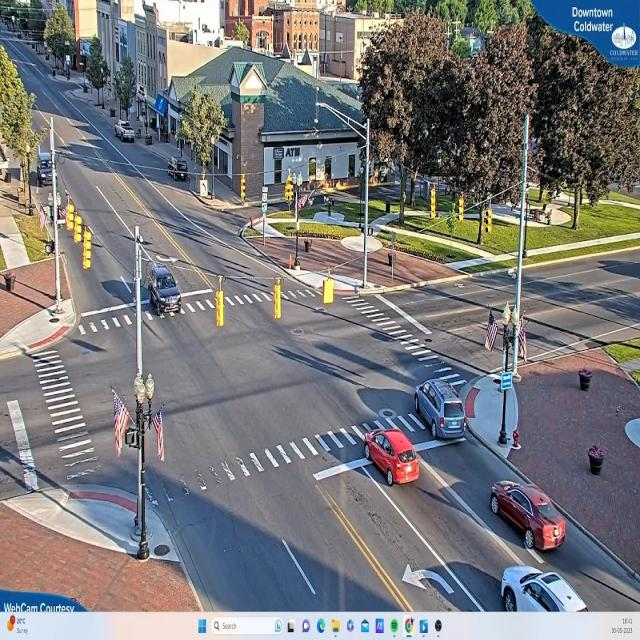car: (490, 483, 570, 555), (498, 568, 599, 610), (417, 380, 467, 441), (366, 431, 420, 486), (141, 260, 184, 322), (586, 442, 604, 474), (116, 123, 136, 143)
